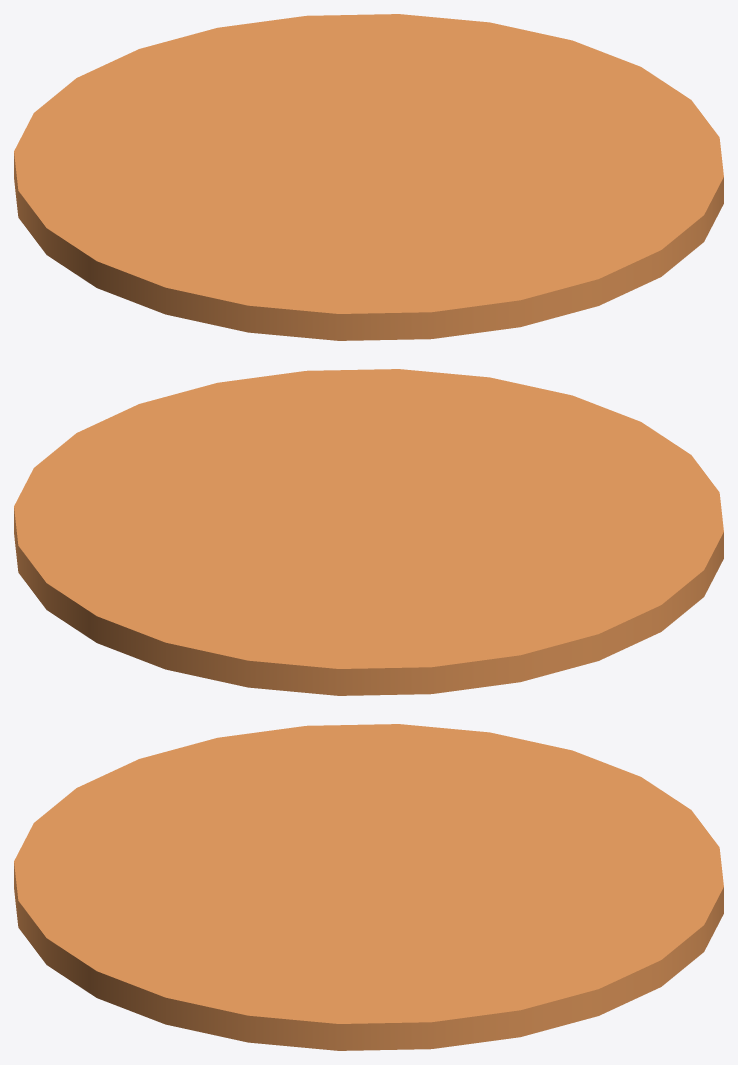
File: original-42.obj
3 renders of one model, top to bottom at view 1: azimuth 30°, elevation 25°; view 2: azimuth 150°, elevation 25°; view 3: azimuth 270°, elevation 25°, orthographic.
Visible parts, largest first — view 1: group_22/ID240#ID240; view 2: group_22/ID240#ID240; view 3: group_22/ID240#ID240.
Boxes of the visible parts, x1,y1,x2,y2 form: group_22/ID240#ID240: [14, 14, 723, 340]; group_22/ID240#ID240: [14, 369, 723, 695]; group_22/ID240#ID240: [14, 724, 723, 1050].
Bounding box in the file's own units: 0.0839 × 0.00351 × 0.0839.
